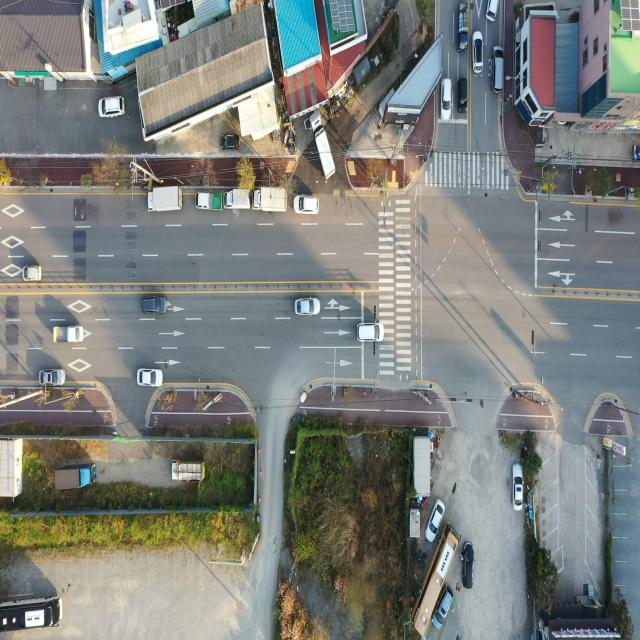car: (434, 586, 454, 632), (426, 502, 444, 544), (99, 96, 126, 119), (461, 544, 474, 591), (492, 45, 504, 92), (440, 78, 452, 124), (295, 195, 321, 215), (142, 295, 168, 314), (357, 322, 383, 341), (137, 368, 162, 387), (514, 465, 524, 511), (295, 299, 320, 317), (39, 368, 65, 385), (472, 33, 482, 76), (24, 266, 43, 282), (458, 78, 466, 110), (485, 0, 497, 21)
large_bus: (413, 519, 459, 637), (0, 595, 63, 633)
medium_truck: (311, 107, 337, 179), (54, 462, 98, 494), (147, 184, 185, 213), (251, 187, 289, 216)
small_truck: (172, 458, 206, 482), (224, 185, 252, 208), (196, 190, 225, 212), (458, 1, 470, 54), (54, 324, 85, 344)
